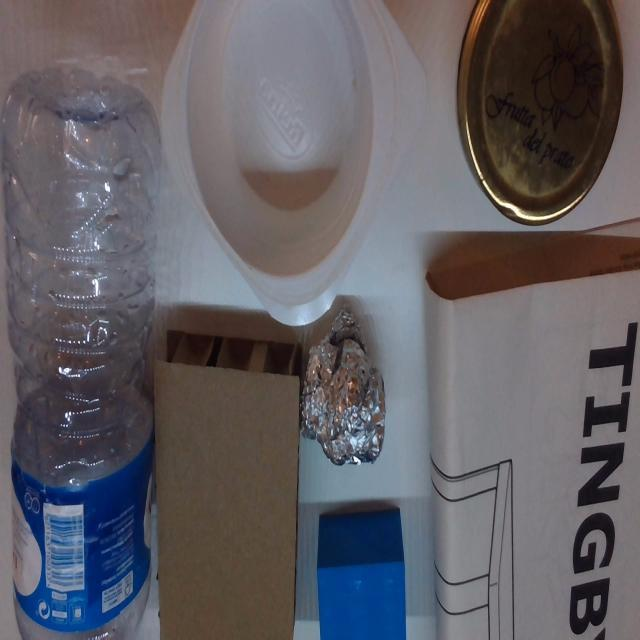Cardboard: (153, 330, 303, 640)
Newspaper: (425, 219, 640, 640)
Plastic: (5, 53, 161, 640), (159, 0, 430, 333), (316, 504, 407, 640)
